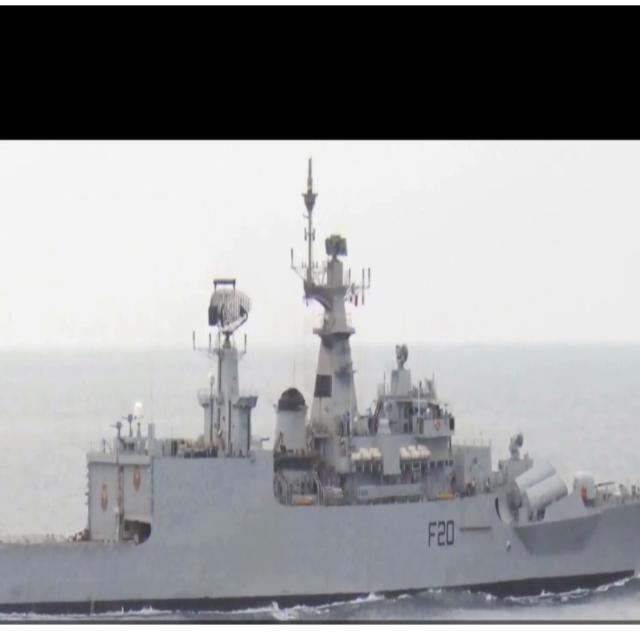OCR: (421, 510, 456, 551)
